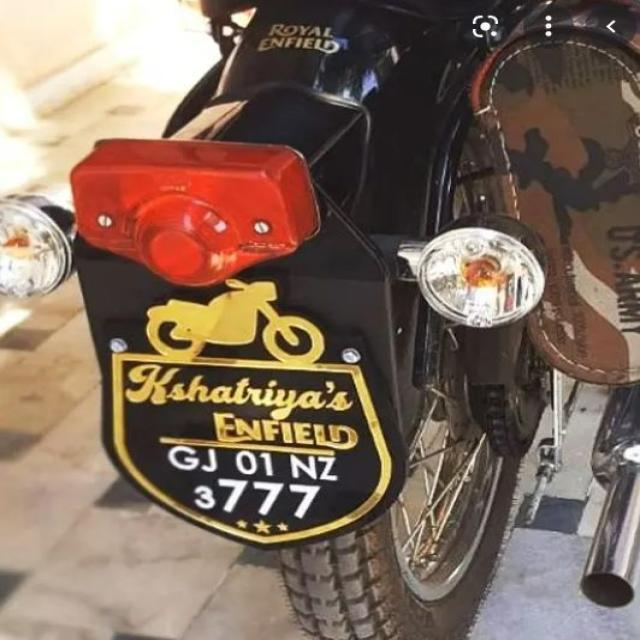number plate: (148, 441, 360, 536)
